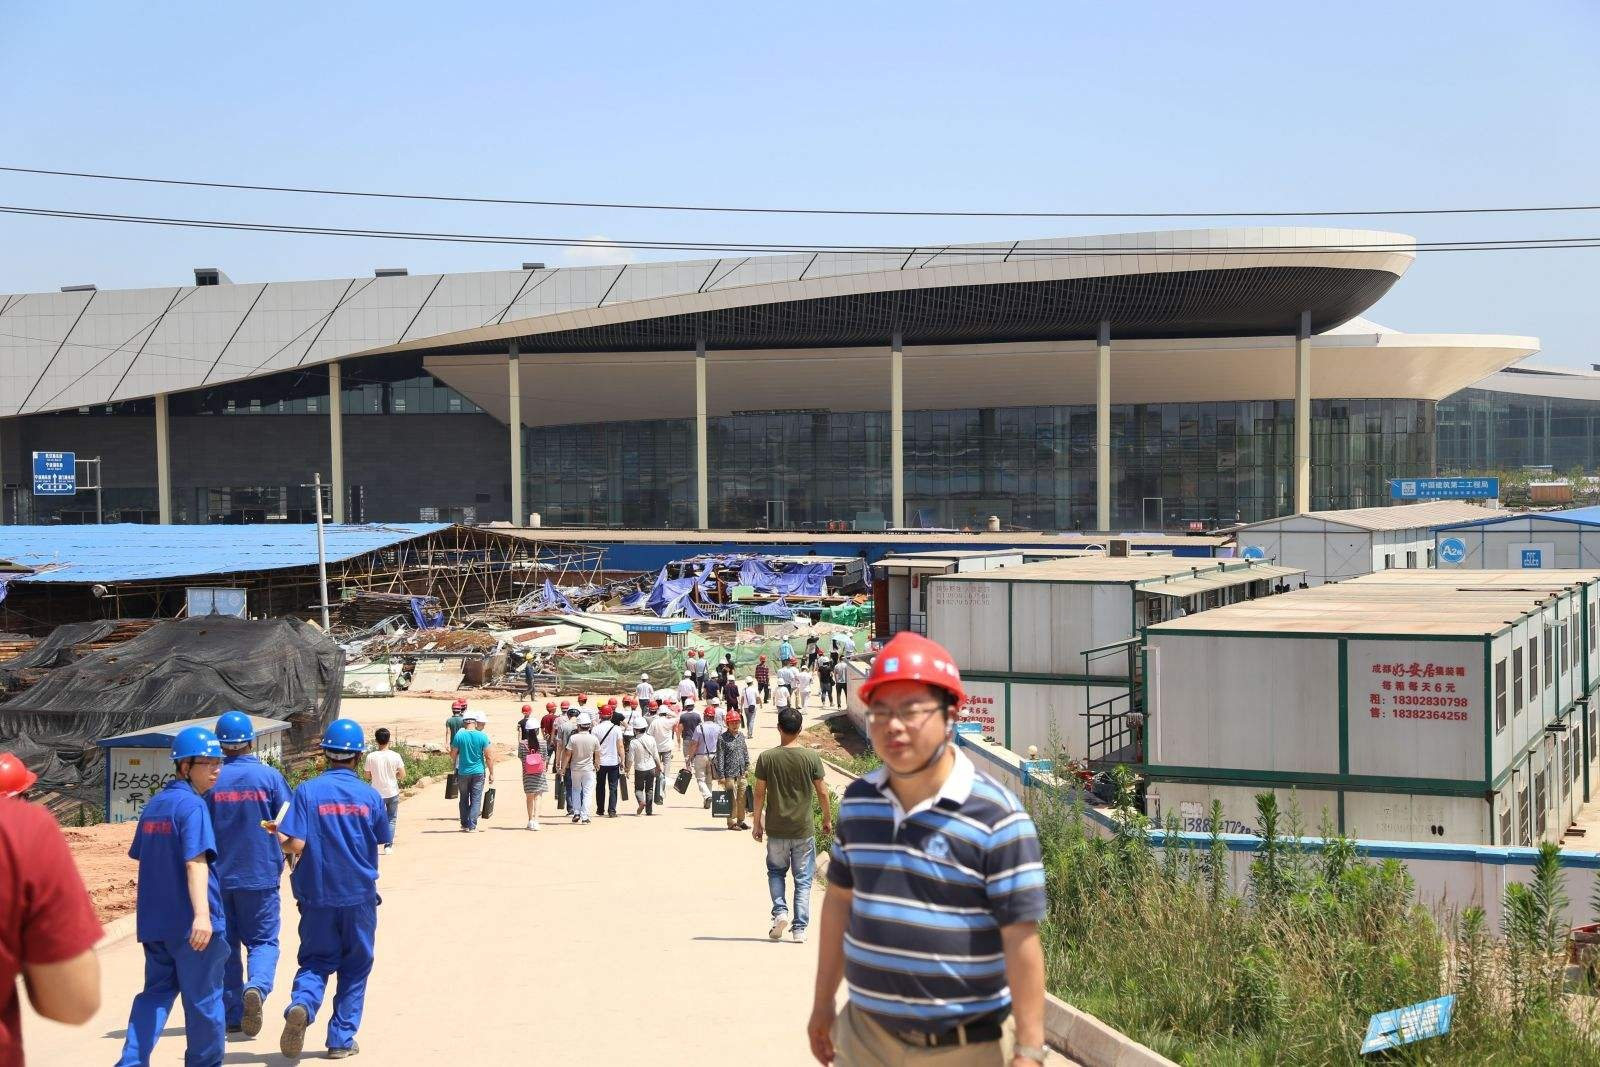blue: (167, 720, 221, 793), (319, 716, 365, 775), (213, 704, 258, 762)
none: (775, 703, 804, 747), (371, 725, 393, 751), (726, 673, 736, 685), (710, 670, 719, 681)
red: (861, 630, 962, 770), (724, 710, 743, 734), (598, 703, 613, 725), (701, 704, 715, 724), (544, 699, 558, 717), (450, 699, 463, 717), (519, 704, 533, 719), (646, 698, 660, 715), (558, 699, 571, 716), (621, 693, 633, 709), (576, 692, 588, 706)
white: (521, 717, 540, 738), (631, 716, 649, 737), (575, 712, 593, 734), (461, 710, 477, 729), (681, 697, 696, 713), (743, 673, 755, 687), (775, 676, 786, 690), (681, 669, 692, 681), (639, 672, 649, 685)
